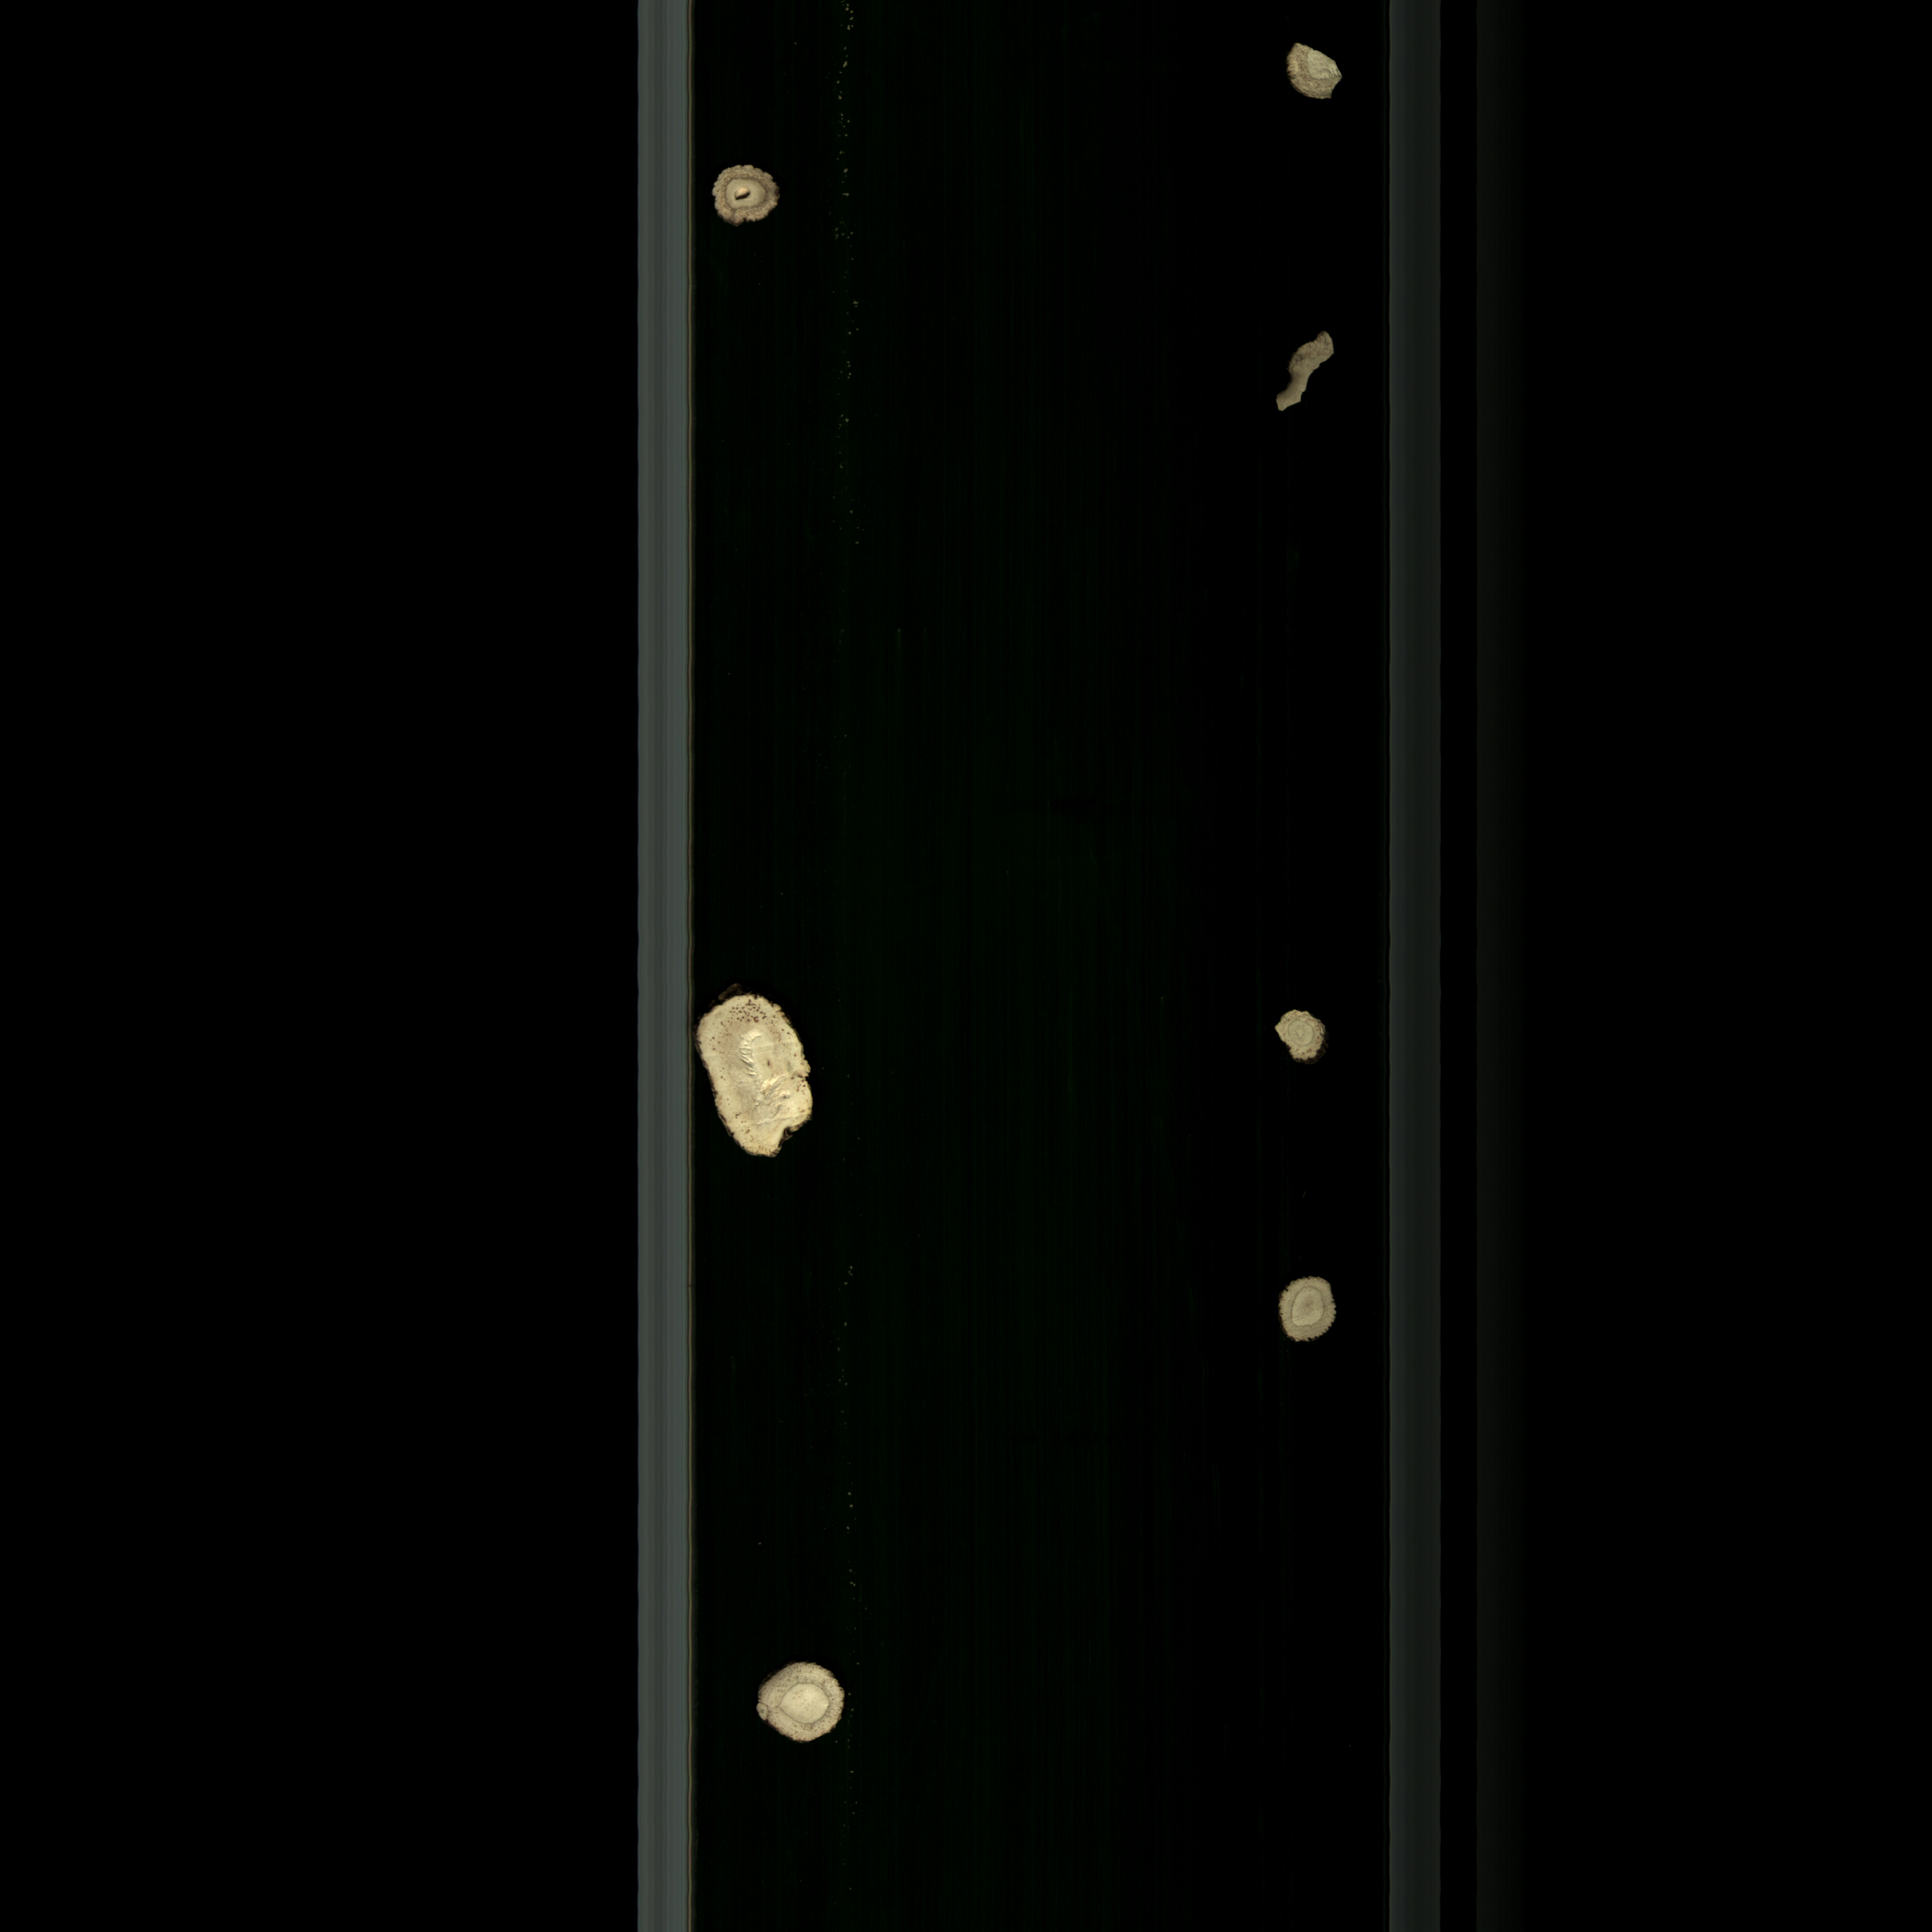distortion: (694, 989, 828, 1185), (1260, 326, 1348, 425)
dreg: (1260, 1003, 1345, 1079)
moldy: (702, 163, 794, 237), (1281, 34, 1355, 117)
